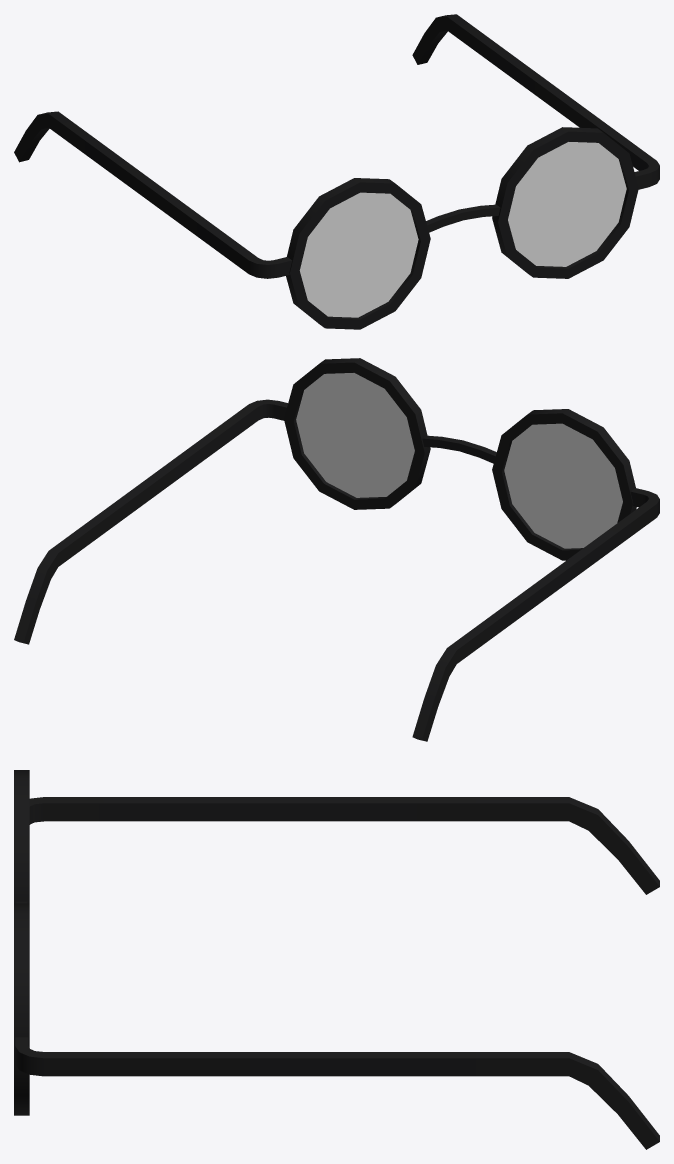
File: WizardGlasses_01.fbx
3 views of the same model, one above another, from view 1: azimuth 30°, elevation 25°; view 2: azimuth 150°, elevation 25°; view 3: azimuth 270°, elevation 25° (orthographic). The views are drawn at different scales.
Visible parts, largest first — view 1: WizardGlasses_01; view 2: WizardGlasses_01; view 3: WizardGlasses_01.
Part boxes in pixels (<box>): WizardGlasses_01: <box>14,14,659,329</box>; WizardGlasses_01: <box>14,358,659,741</box>; WizardGlasses_01: <box>14,770,659,1149</box>.
Bounding box in the file's own units: 0.2087 × 0.072 × 0.2182.
